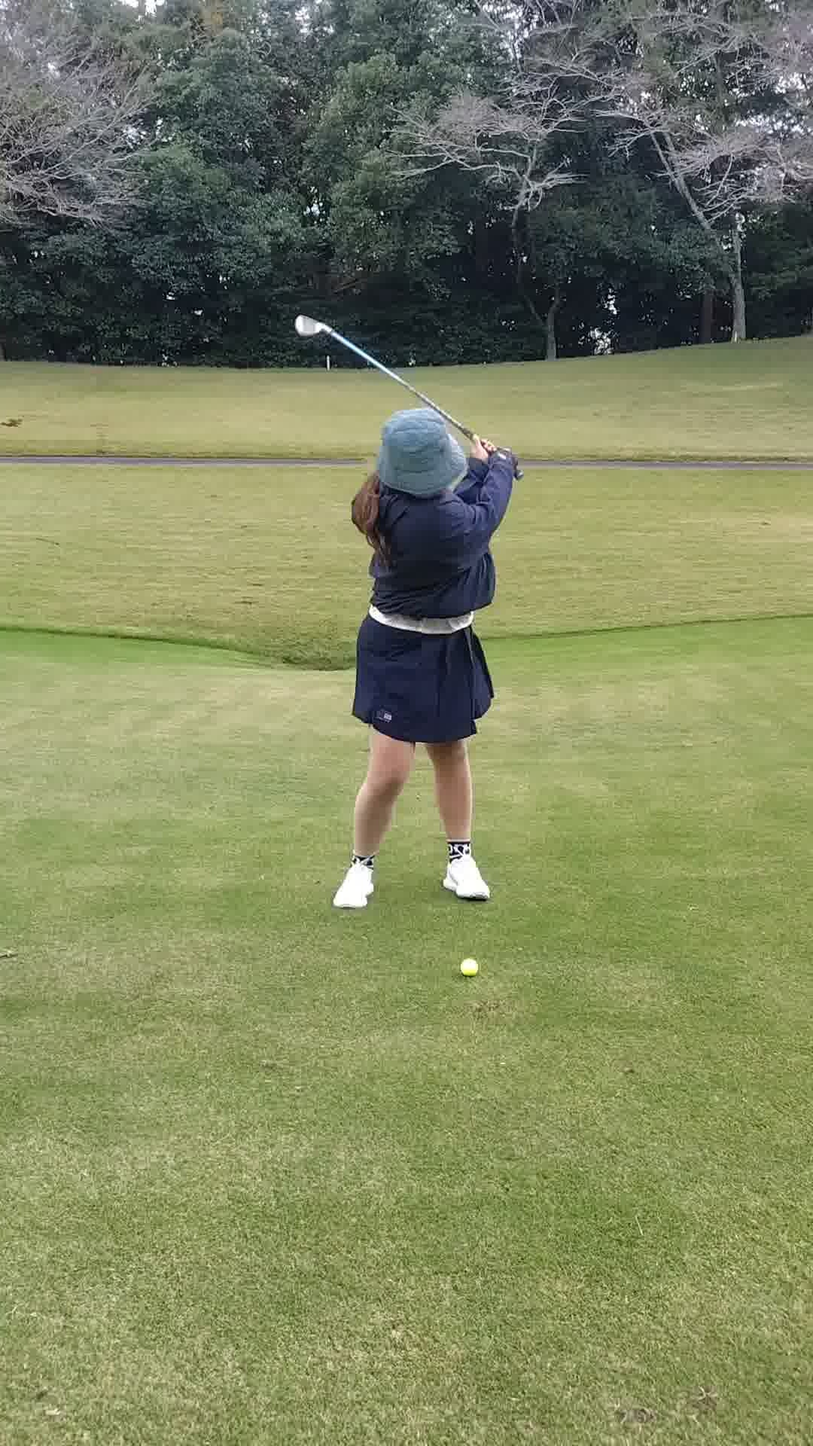clubhead: (262, 266, 380, 410)
